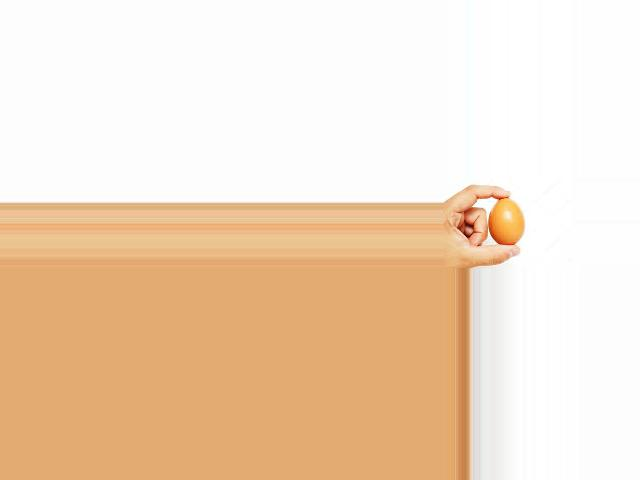egg: (488, 197, 525, 245)
